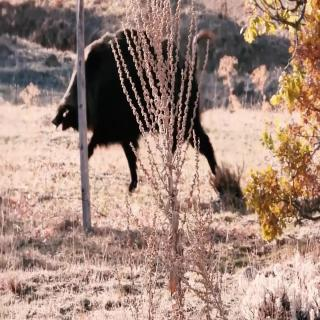Pig: (51, 20, 236, 201)
